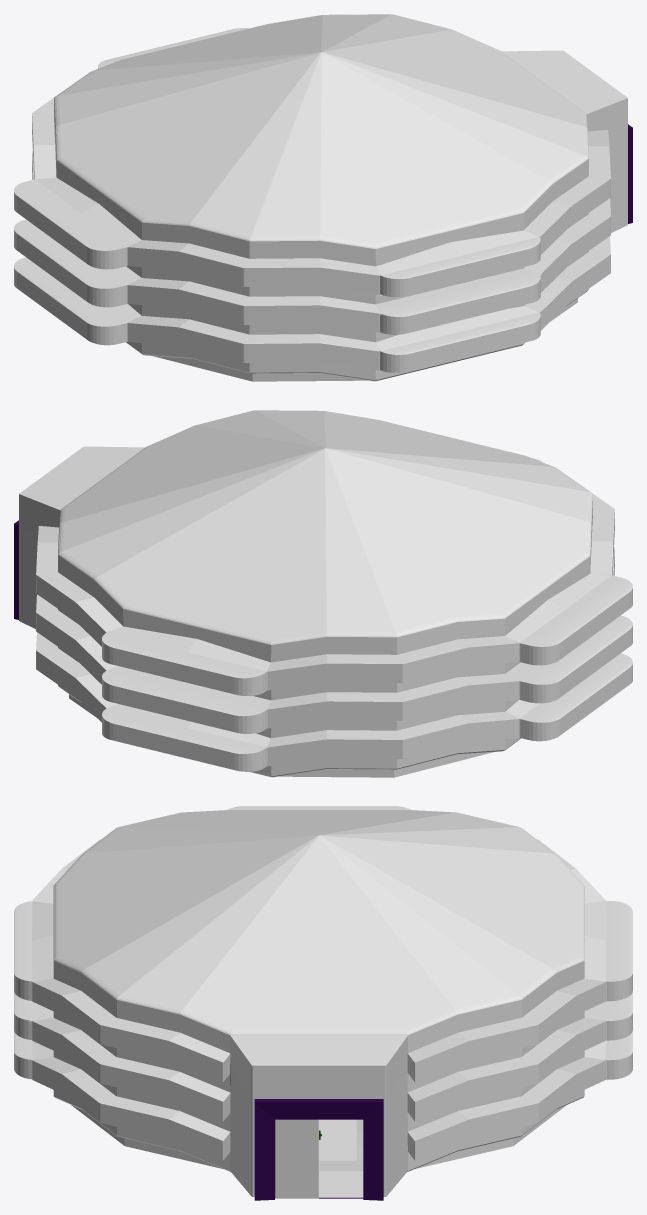
Rendered from Boss-Level.fbx.
3 views of the same model, one above another, from view 1: azimuth 30°, elevation 25°; view 2: azimuth 150°, elevation 25°; view 3: azimuth 270°, elevation 25° (orthographic). The views are drawn at different scales.
Parts seen in each view (by area): view 1: Roof and Walls.001, Floor.001; view 2: Roof and Walls.001, Floor.001; view 3: Roof and Walls.001, Door.001, Floor.001, left Door.001.
Boxes of the visible parts, <box> form: Roof and Walls.001: <box>14,14,627,381</box>; Floor.001: <box>153,298,577,381</box>; Roof and Walls.001: <box>19,410,632,777</box>; Floor.001: <box>69,694,493,777</box>; Roof and Walls.001: <box>14,806,632,1197</box>; Door.001: <box>254,1099,383,1200</box>; Floor.001: <box>71,1105,566,1171</box>; left Door.001: <box>275,1119,318,1198</box>.
Bounding box in the file's own units: 6759 × 2680 × 6369.
